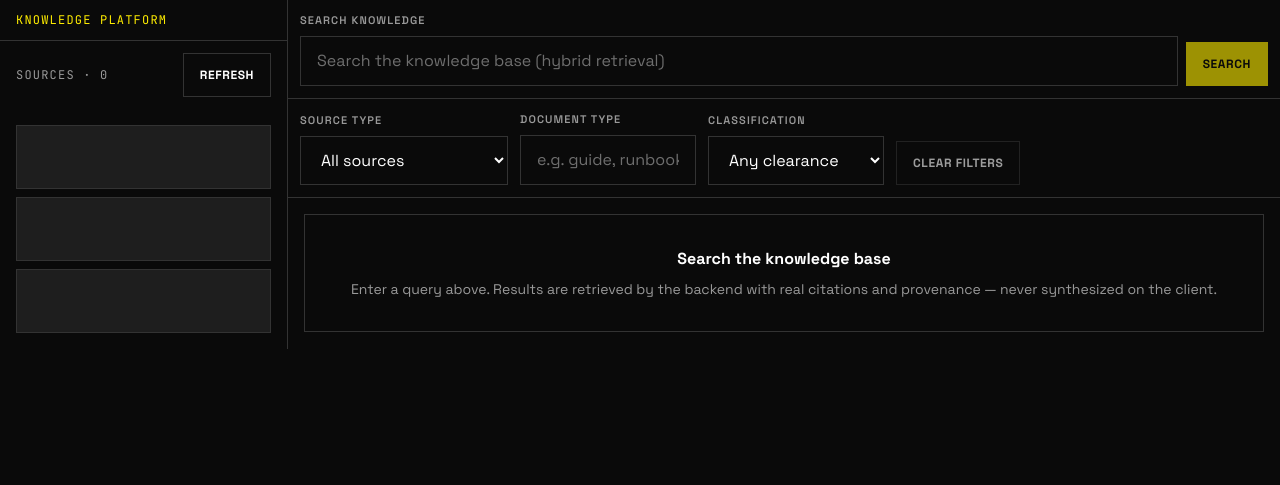
it: Knowledge Workspace › pages through results using backend offset pagination
The image size is (1280, 485).
In the field labelled "Knowledge search": (739, 61) [300,36,1178,86], type "hello"
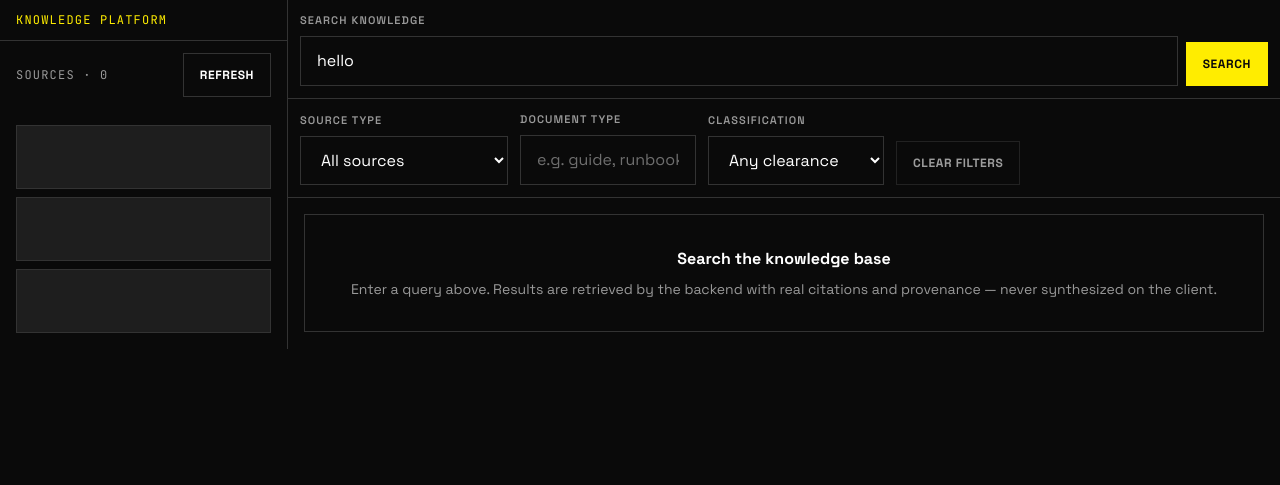
Click the button "Search": (1227, 64) [1186,42,1268,86]
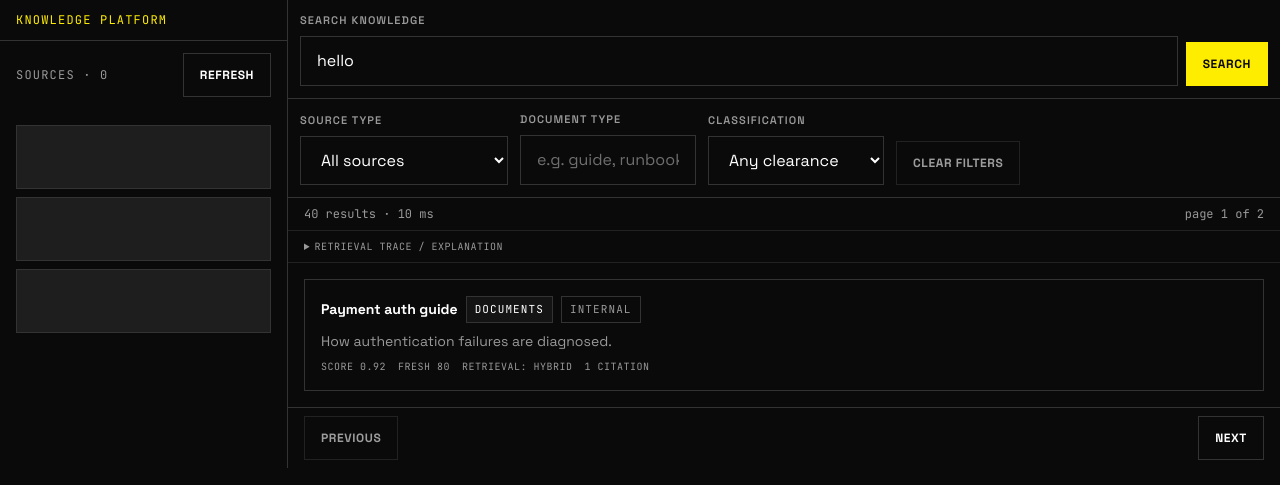
Expected: the list named "Knowledge results" is shown, [288,263,1279,406]
Expected: the text "page 1 of 2" is shown, [1185,206,1264,222]
Click the button "Next": (1231, 438) [1198,416,1264,460]
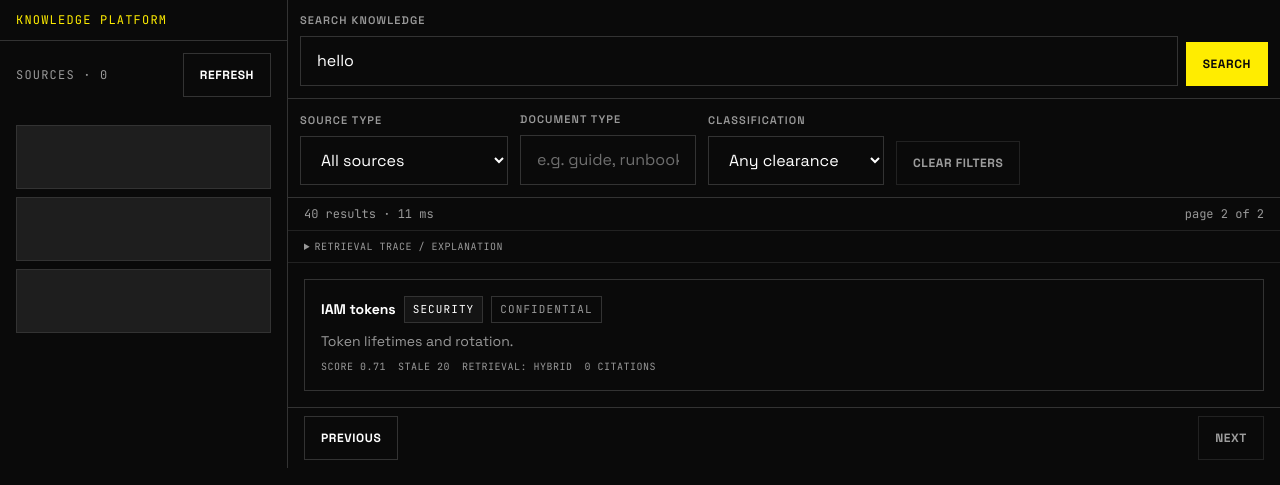
Expected: the text "page 2 of 2" is shown, [1185,206,1264,222]
Click the button "Previous": (351, 438) [304,416,398,460]
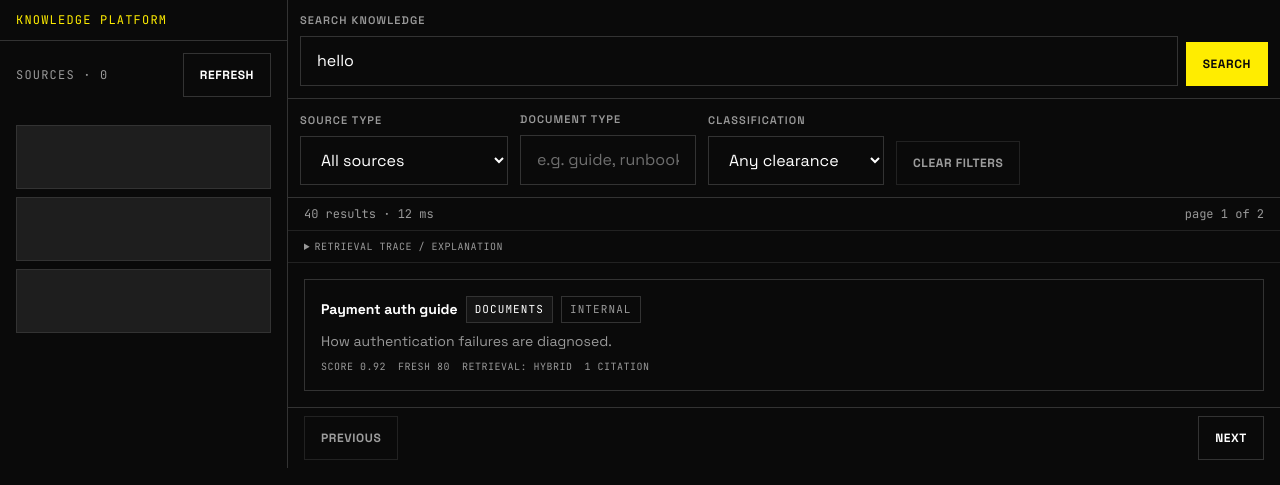
Expected: the text "page 1 of 2" is shown, [1185,206,1264,222]
